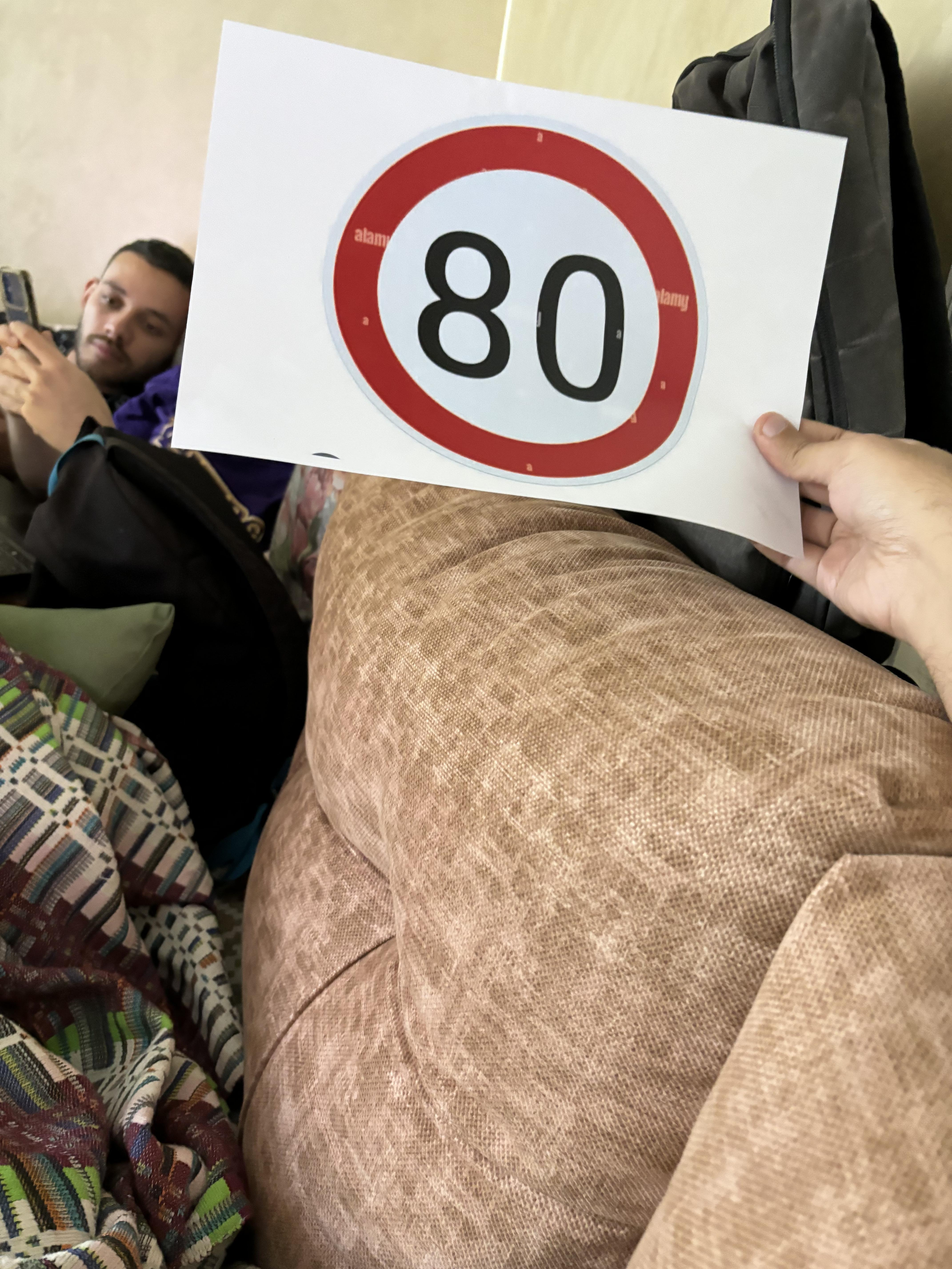80-Speed: (318, 112, 708, 490)
